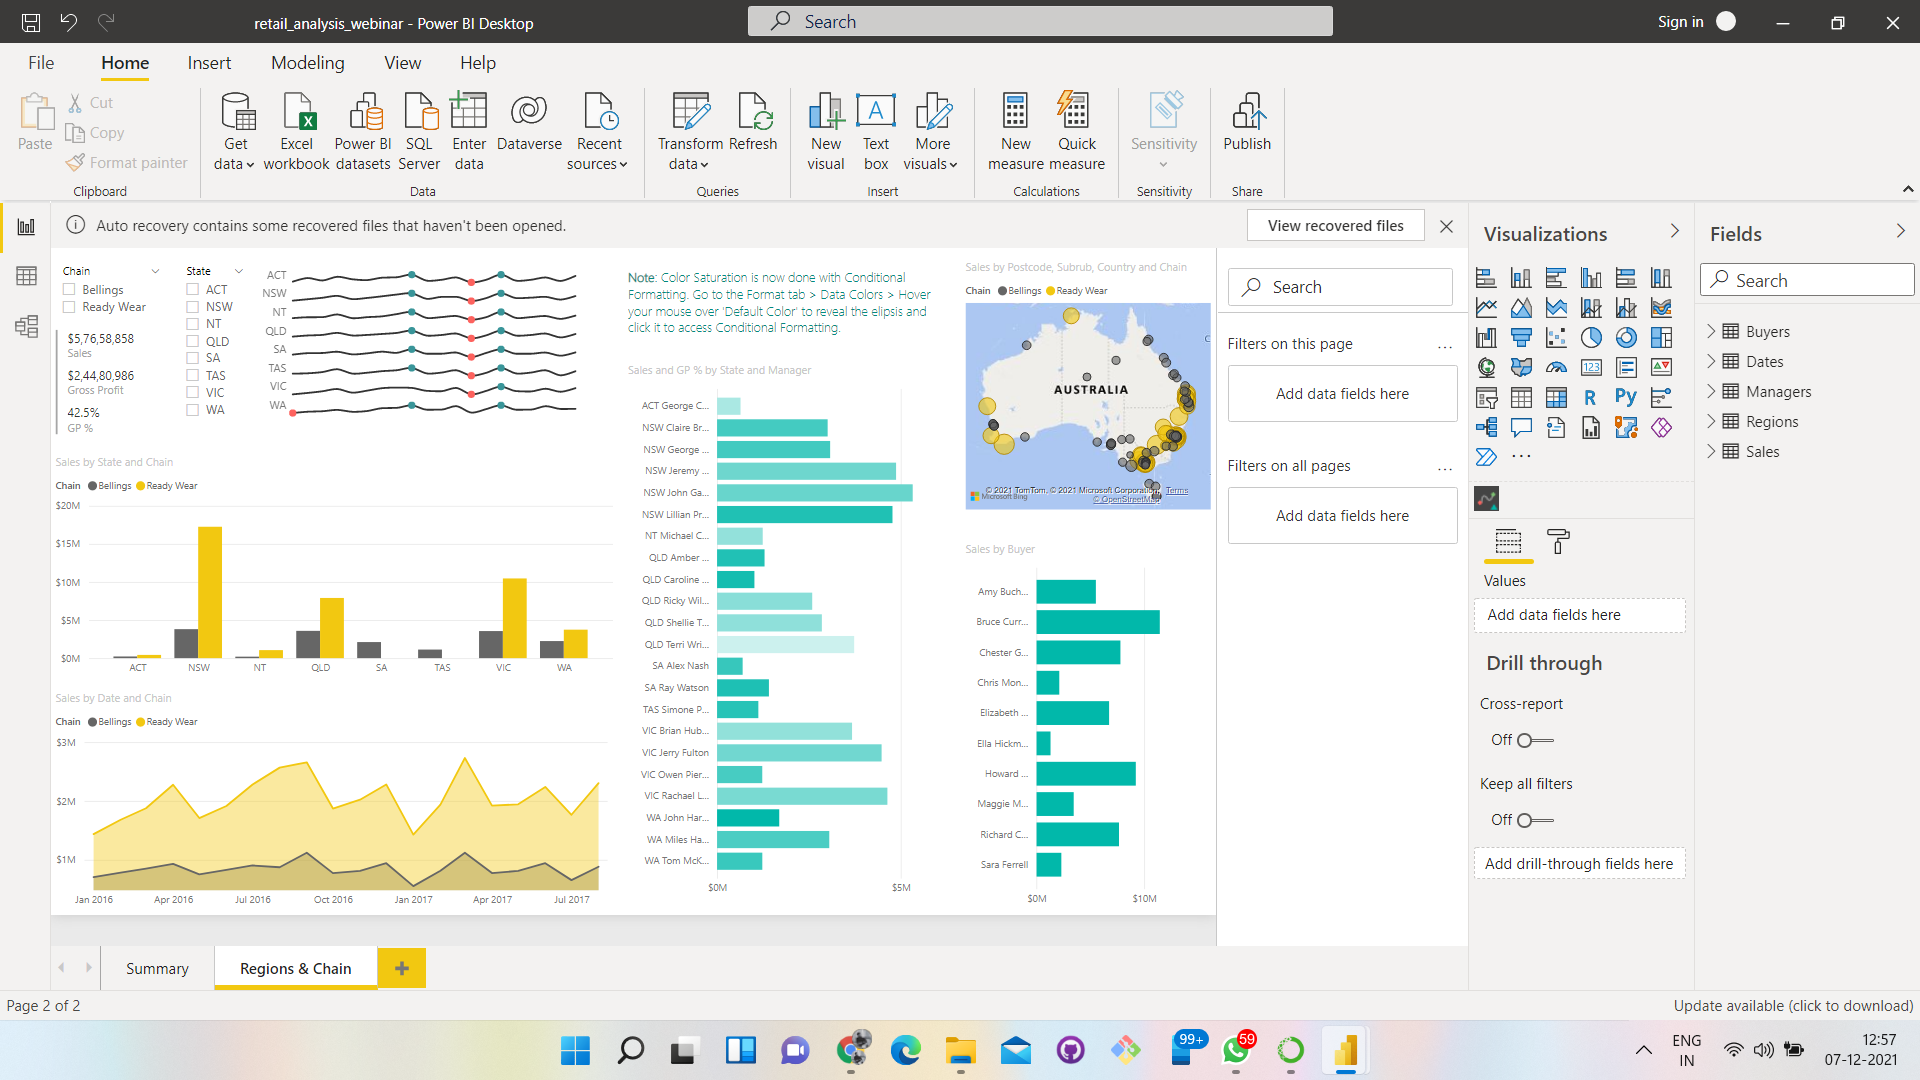

The page's visual inventory and layout, read from the dashboard file:
{"tool":"powerbi","page":{"name":"Regions & Chain","canvas":[1280,720],"ordinal":1},"visuals":[{"type":"clusteredBarChart","fields":{"Y":["Sales.Sales"],"Category":["Buyers.Buyer"]},"box":[1000.3,310.4,279.7,409.3],"z":0},{"type":"textbox","box":[629,6.1,361.3,95.4],"z":10},{"type":"map","fields":{"Size":["Sales.Sales"],"Series":["Sales.Chain"],"Category":["Regions.Postcode, Subrub, Country"]},"box":[1000.3,0,279.7,280.6],"z":1000},{"type":"clusteredColumnChart","fields":{"Y":["Sales.Sales"],"Category":["Regions.State"],"Series":["Sales.Chain"]},"box":[0,214.9,622.5,252.4],"z":2000},{"type":"clusteredBarChart","fields":{"Y":["Sales.Sales"],"Category":["Regions.State","Managers.Manager"]},"box":[629,114.6,361.3,594],"z":3000},{"type":"areaChart","fields":{"Y":["Sales.Sales"],"Series":["Sales.Chain"],"Category":["Sales.Date"]},"box":[0,473.3,626.8,246.4],"z":4000},{"type":"slicer","fields":{"Values":["Sales.Chain"]},"box":[0,0,132.2,82.7],"z":5000},{"type":"multiRowCard","fields":{"Values":["Sales.Sales","Sales.Gross Profit","Sales.GP %"]},"box":[0,72.5,105.7,132.2],"z":6000},{"type":"slicer","fields":{"Values":["Regions.State"]},"box":[136.4,0,87.8,202.1],"z":7000},{"type":"PBI_CV_25997FEB_F466_44FA_B562_AC4063283C4C","fields":{"measure":["Sales.Sales"],"axis":["Dates.Date"],"category":["Regions.State"]},"box":[215.7,0,382.9,185],"z":8000}]}

Visuals, with their boxes on the page's 1280x720 design canvas (x1, y1, x2, y2). These are canvas units, not pixel positions in the 1920x1080 screenshot, which may show the page scaled, cropped or inside an application window:
clusteredBarChart - Sales.Sales x Buyers.Buyer: Rect(1000, 310, 1280, 720)
textbox: Rect(629, 6, 990, 102)
map - Sales.Sales x Sales.Chain: Rect(1000, 0, 1280, 281)
clusteredColumnChart - Sales.Sales x Regions.State: Rect(0, 215, 622, 467)
clusteredBarChart - Sales.Sales x Regions.State: Rect(629, 115, 990, 709)
areaChart - Sales.Sales x Sales.Chain: Rect(0, 473, 627, 720)
slicer - Sales.Chain: Rect(0, 0, 132, 83)
multiRowCard - Sales.Sales x Sales.Gross Profit: Rect(0, 72, 106, 205)
slicer - Regions.State: Rect(136, 0, 224, 202)
PBI_CV_25997FEB_F466_44FA_B562_AC4063283C4C - Sales.Sales x Dates.Date: Rect(216, 0, 599, 185)
